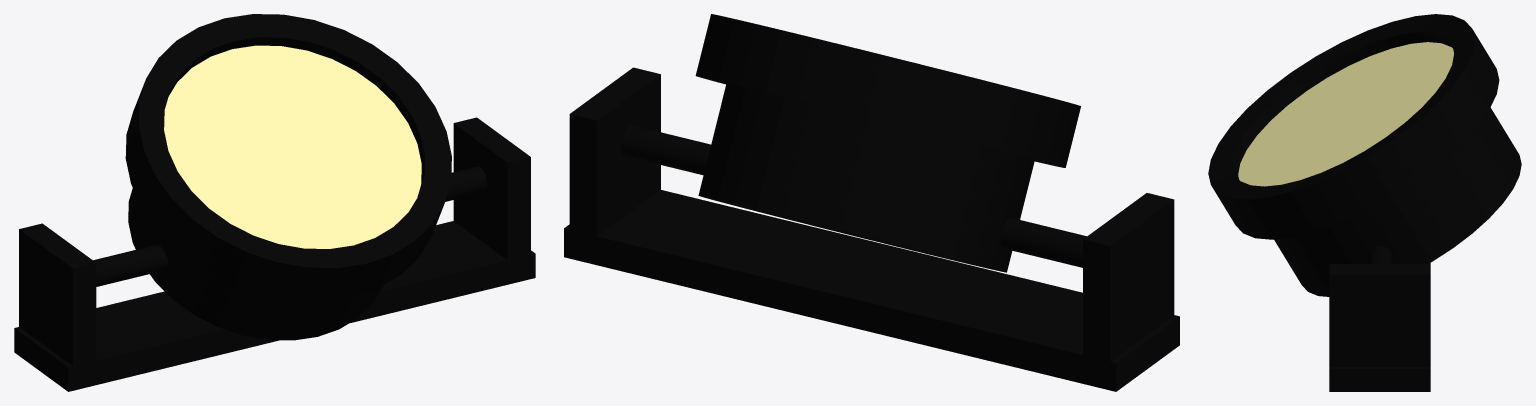
Rendered from BeamLamp.fbx.
3 views of the same model, side by side, from view 1: azimuth 30°, elevation 25°; view 2: azimuth 150°, elevation 25°; view 3: azimuth 270°, elevation 25° (orthographic). The views are drawn at different scales.
Parts seen in each view (by area): view 1: Cylinder; view 2: Cylinder; view 3: Cylinder.
Part boxes in pixels (<box>): Cylinder: <box>14,14,535,391</box>; Cylinder: <box>564,14,1179,391</box>; Cylinder: <box>1208,14,1521,391</box>.
Bounding box in the file's own units: 1000 × 532 × 617.
